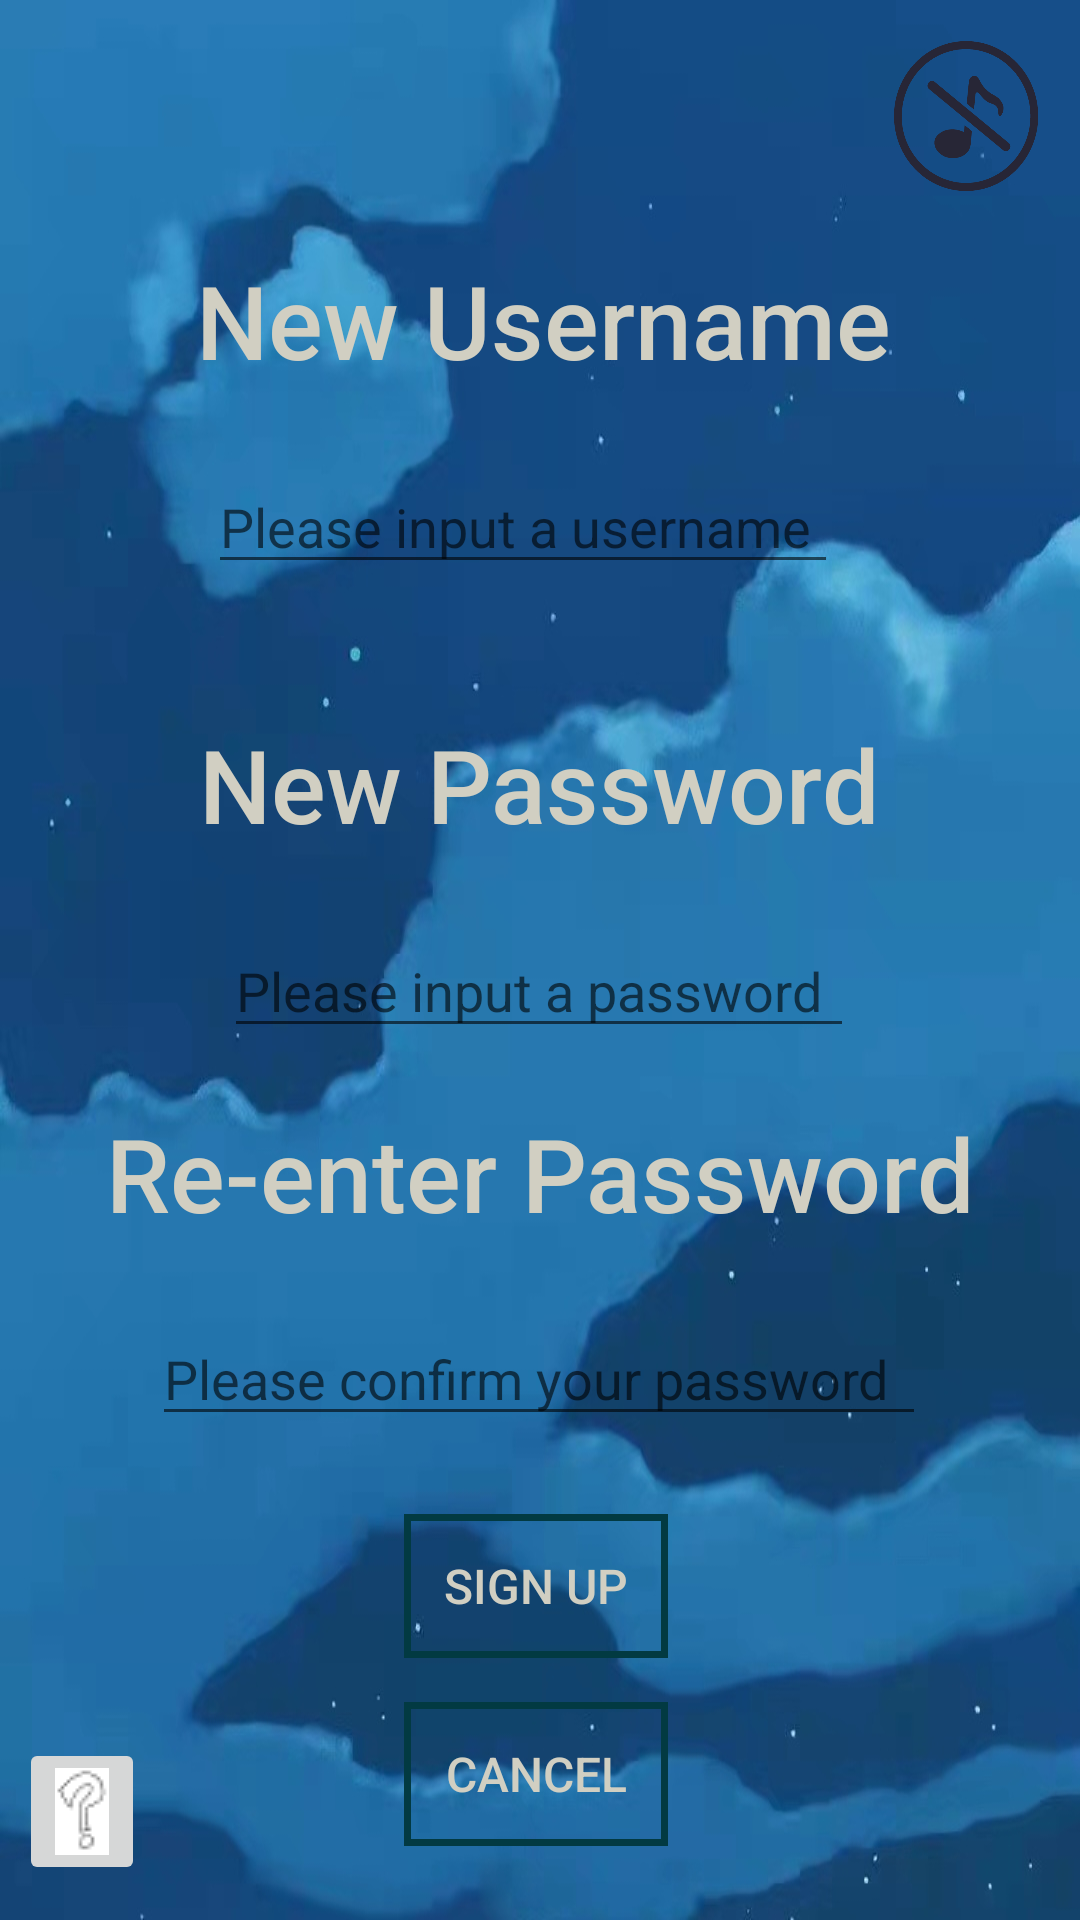

Icon click points for this 1080px×1920px phone screenshot, format (x=x, y=y):
questionmark: (x=82, y=1811)
